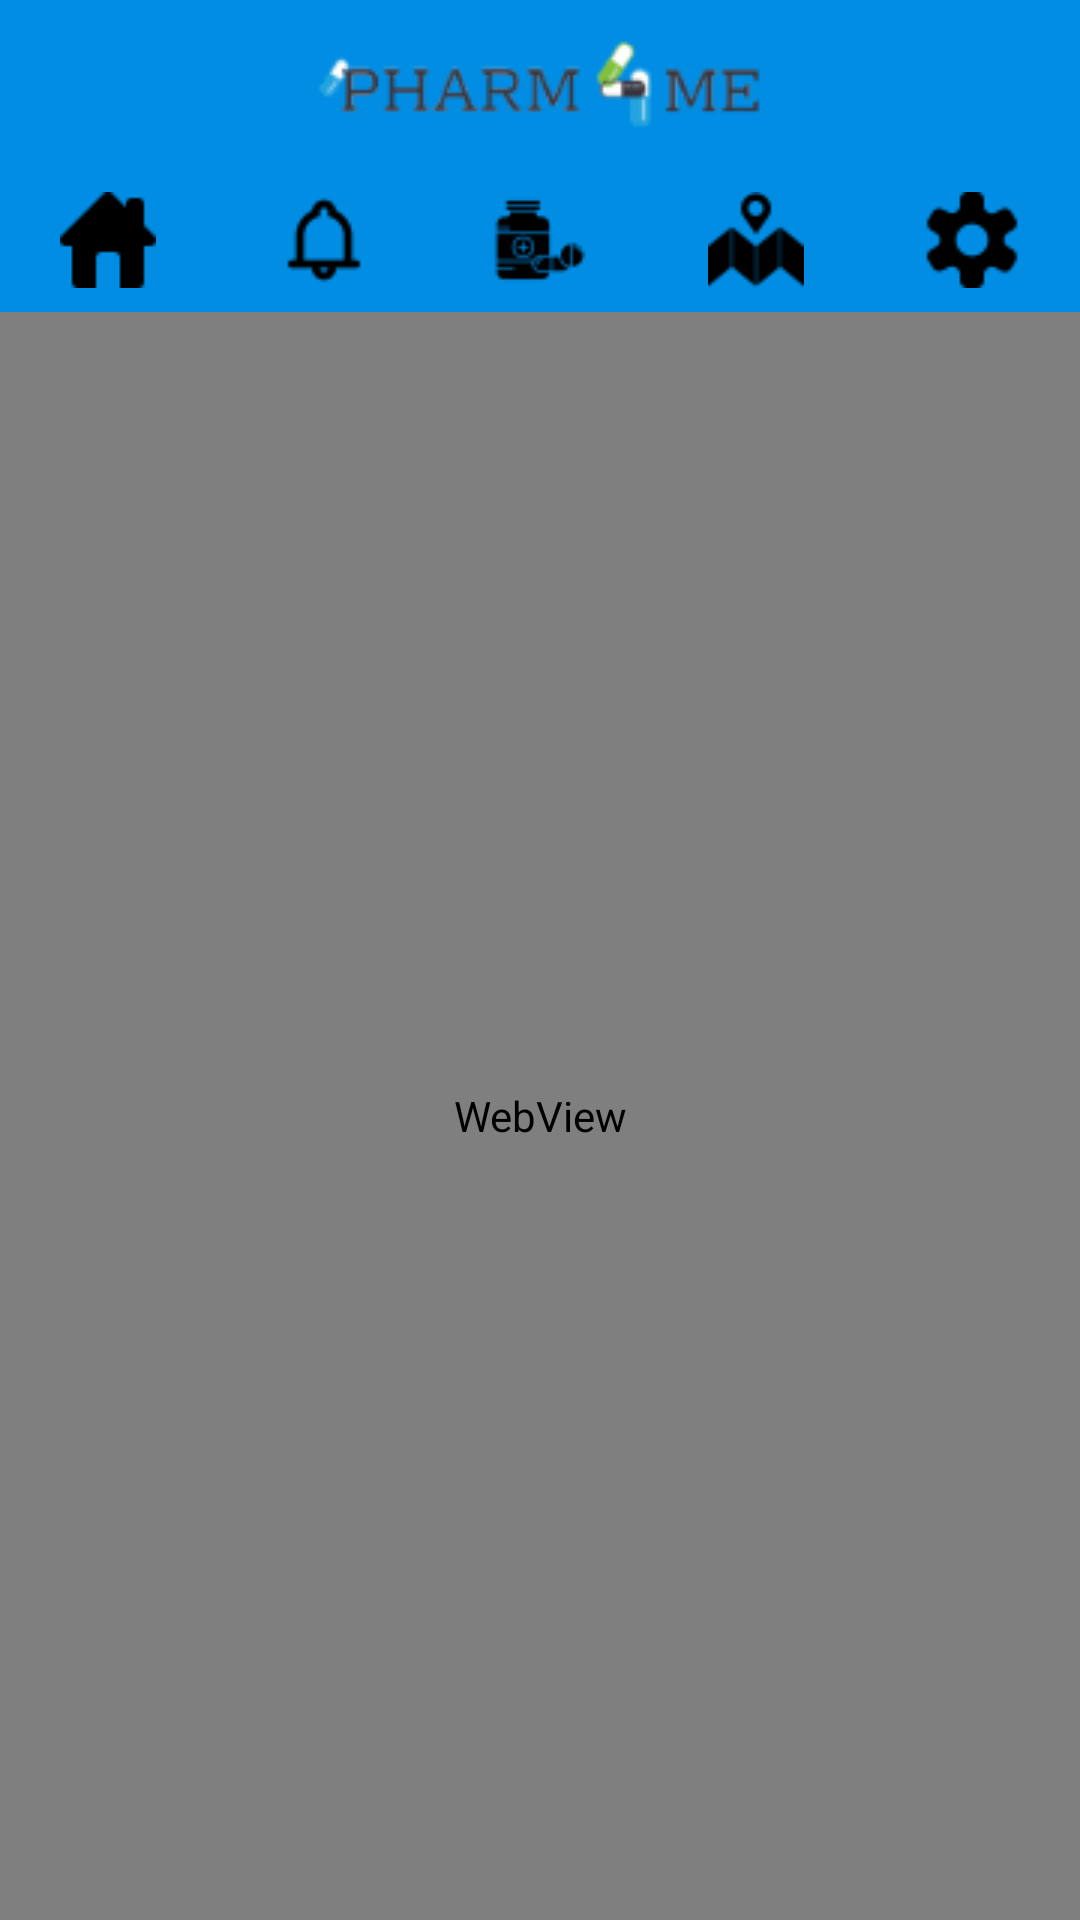

Where icons sit on this 1080x1920 app screen, as detection(x1, y1, x2, y2):
home: detection(60, 192, 156, 288)
location: detection(708, 192, 804, 286)
notification: detection(287, 198, 361, 282)
prescription: detection(494, 200, 586, 280)
settings: detection(926, 192, 1018, 288)
